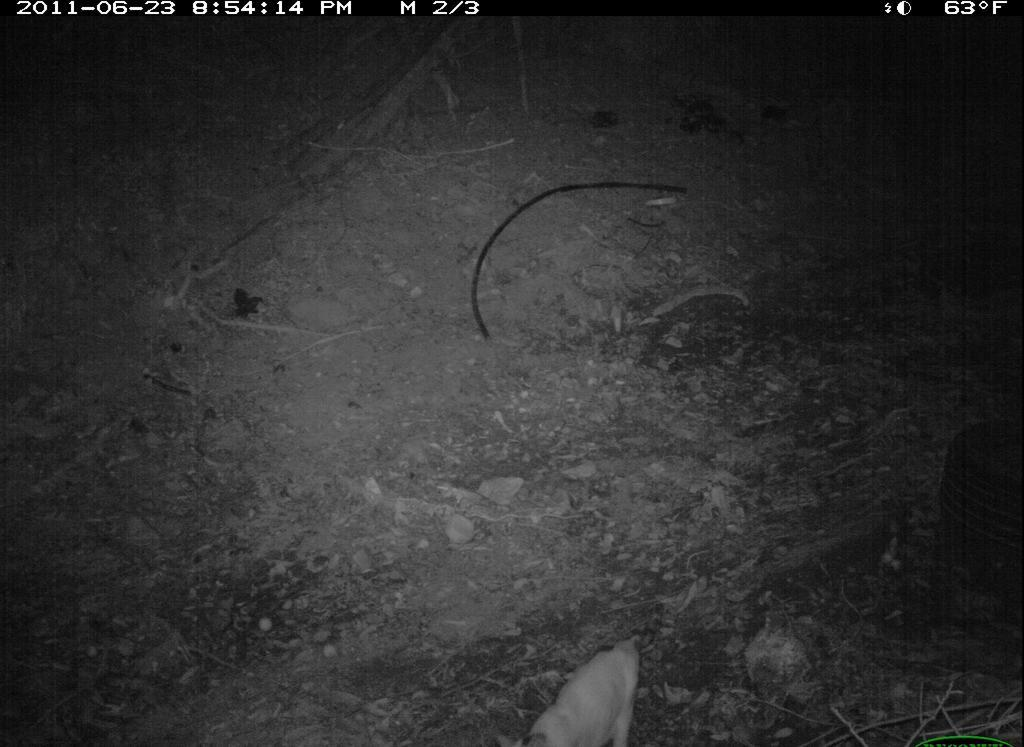cat: (505, 616, 666, 743)
